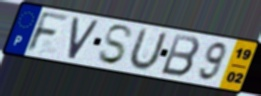9: (196, 41, 229, 83)
B: (159, 32, 202, 79)
F: (24, 10, 72, 55)
S: (96, 24, 135, 67)
U: (125, 26, 170, 72)
V: (65, 16, 102, 62)
